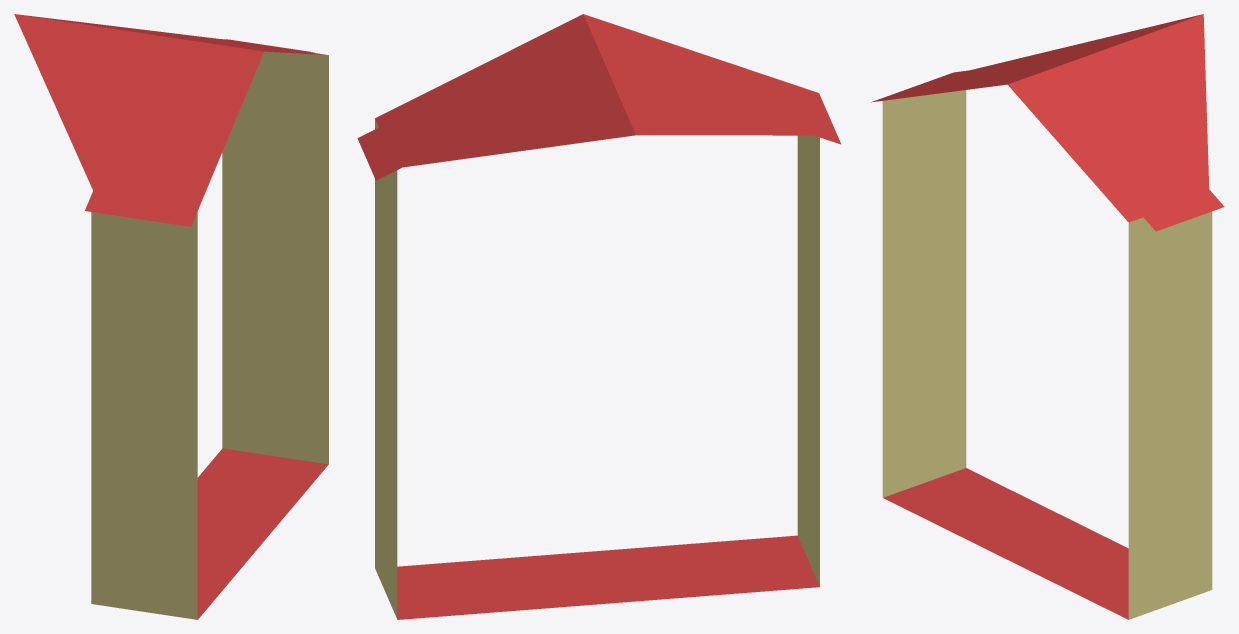
3 views of the same model, side by side, from view 1: azimuth 30°, elevation 25°; view 2: azimuth 150°, elevation 25°; view 3: azimuth 270°, elevation 25° (orthographic). The views are drawn at different scales.
Bounding box in the file's own units: 9.75 × 9.17 × 13.57.
